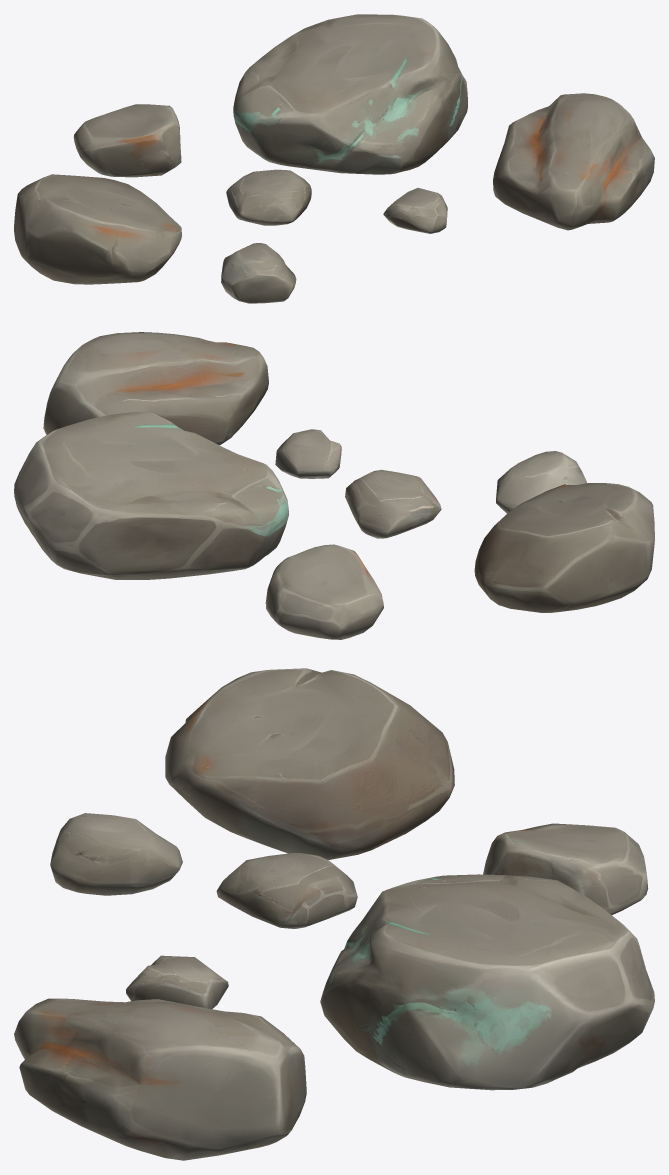
3 views of the same model, one above another, from view 1: azimuth 30°, elevation 25°; view 2: azimuth 150°, elevation 25°; view 3: azimuth 270°, elevation 25° (orthographic). The views are drawn at different scales.
Size of the model in its own units: 2 by 0.337 by 1.35.
1 material, 1 textured.
